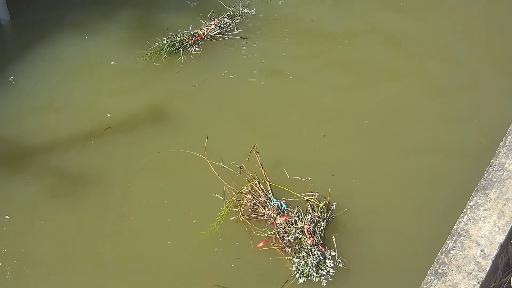twig: (178, 130, 354, 288), (129, 0, 279, 80)
